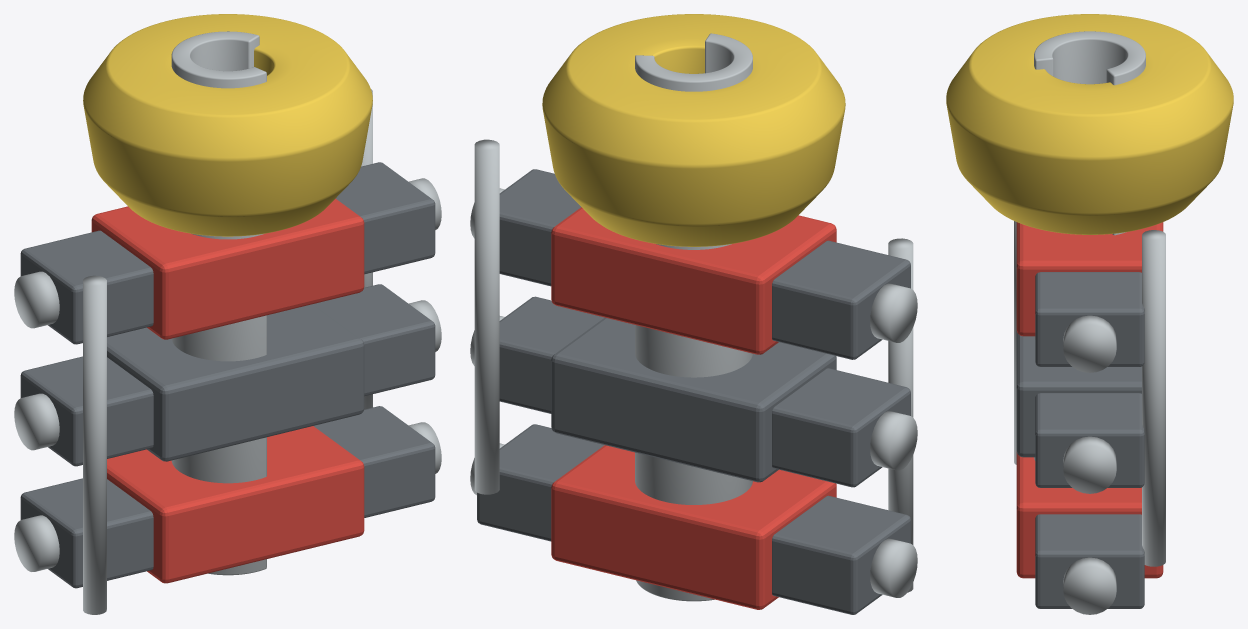
The model's file is bop-stack.glb.
3 views of the same model, side by side, from view 1: azimuth 30°, elevation 25°; view 2: azimuth 150°, elevation 25°; view 3: azimuth 270°, elevation 25° (orthographic). The views are drawn at different scales.
Visible parts, largest first — view 1: Annular preventer, Ram body 1, Ram body 2, Ram body 0, BOP bore, Ram bonnet 0 -1, Kill line, Ram bonnet 1 1, Ram bonnet 2 1, Ram bonnet 2 -1, Ram bonnet 1 -1, Ram bonnet 0 1 (+4 smaller); view 2: Annular preventer, Ram body 1, Ram body 2, Ram body 0, BOP bore, Ram bonnet 1 -1, Ram bonnet 0 -1, Ram bonnet 2 -1, Choke line, Ram bonnet 2 1, Ram bonnet 1 1, Ram bonnet 0 1 (+4 smaller); view 3: Annular preventer, Ram bonnet 0 1, Ram bonnet 1 1, Ram bonnet 2 1, Choke line, Ram body 0, Ram body 2, Ram body 1, BOP bore, Bonnet cap 0 1, Bonnet cap 2 1, Bonnet cap 1 1 (+1 smaller).
Part boxes in pixels (x1,y1,x2,y2): Annular preventer: (83,14,372,236); Ram body 1: (107,304,364,461); Ram body 2: (107,426,364,583); Ram body 0: (91,198,364,339); BOP bore: (171,31,266,575); Ram bonnet 0 -1: (20,230,153,344); Kill line: (83,275,106,614); Ram bonnet 1 1: (313,284,435,396); Ram bonnet 2 1: (314,406,435,517); Ram bonnet 2 -1: (20,478,153,588); Ram bonnet 1 -1: (20,356,153,466); Ram bonnet 0 1: (336,162,435,274); Annular preventer: (542,14,845,246); Ram body 1: (551,317,836,482); Ram body 2: (551,445,836,609); Ram body 0: (551,207,836,354); BOP bore: (635,33,752,601); Ram bonnet 1 -1: (772,368,910,487); Ram bonnet 0 -1: (772,240,910,359); Ram bonnet 2 -1: (772,495,910,614); Choke line: (474,139,499,494); Ram bonnet 2 1: (477,424,604,541); Ram bonnet 1 1: (499,296,604,413); Ram bonnet 0 1: (499,169,580,286); Annular preventer: (946,14,1233,234); Ram bonnet 0 1: (1035,272,1144,366); Ram bonnet 1 1: (1035,393,1144,487); Ram bonnet 2 1: (1035,514,1144,608); Choke line: (1142,230,1165,566); Ram body 0: (1016,222,1163,336); Ram body 2: (1016,452,1163,578); Ram body 1: (1016,331,1141,457); BOP bore: (1034,31,1145,460); Bonnet cap 0 1: (1063,315,1116,372); Bonnet cap 2 1: (1063,557,1116,614); Bonnet cap 1 1: (1063,436,1116,493).
Size of the model in its own units: 3.44 by 4.08 by 2.15.
